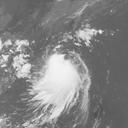cyclone: (29, 54, 89, 114)
